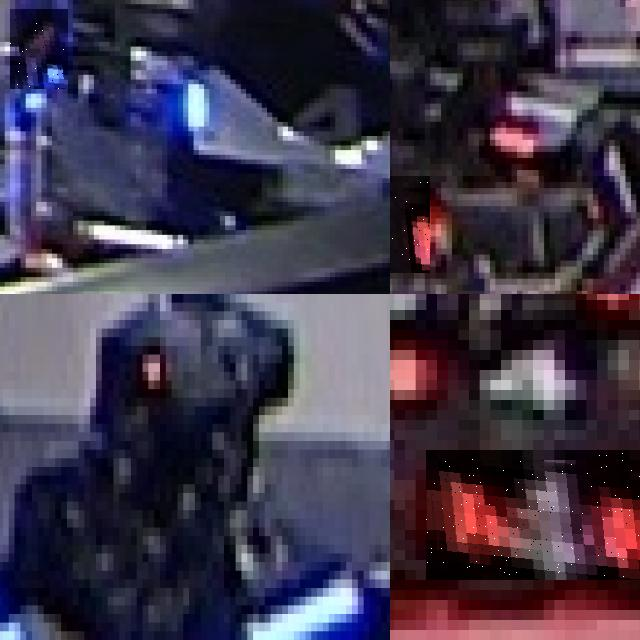B1: (0, 613, 130, 640)
B4: (10, 9, 68, 89)
R1: (390, 176, 430, 272)
R4: (426, 450, 640, 580)
